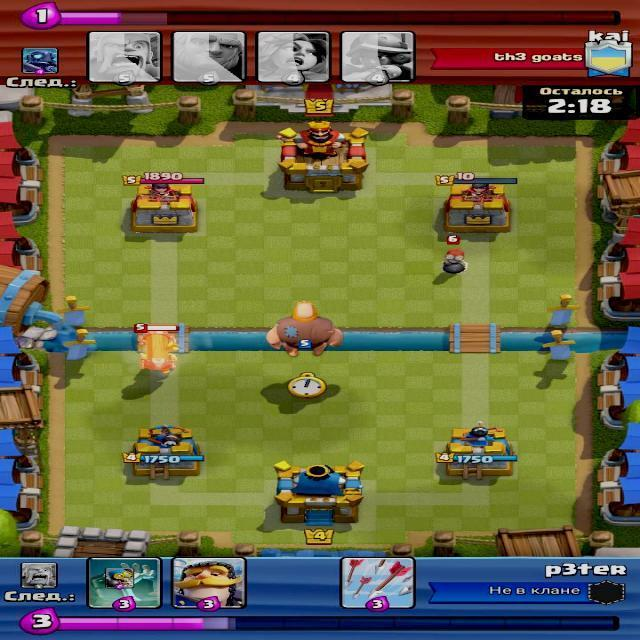EBRam: (135, 323, 179, 381), (442, 248, 467, 275)
EKingTower: (279, 121, 368, 192)
EnemyPrincessTower: (130, 180, 203, 232), (444, 179, 510, 232)
OGiant: (267, 301, 342, 356)
OwnKingTower: (274, 461, 363, 525)
OwnPrincessTower: (437, 427, 517, 479), (125, 425, 203, 477)
